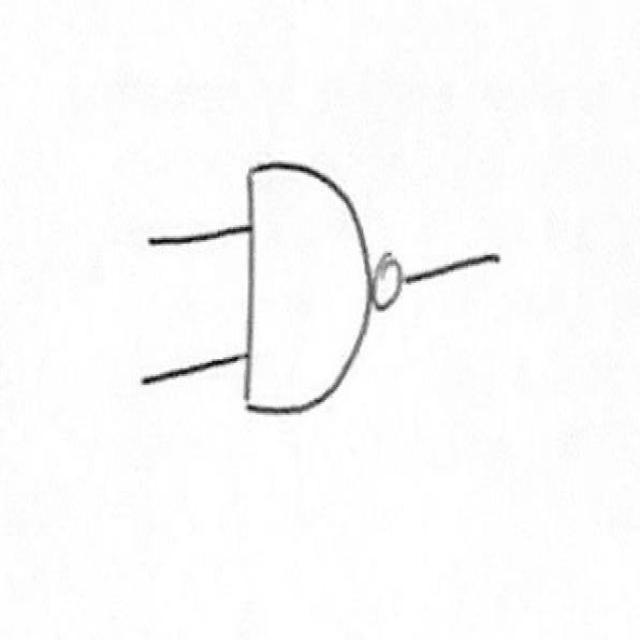NAND: (230, 109, 437, 450)
